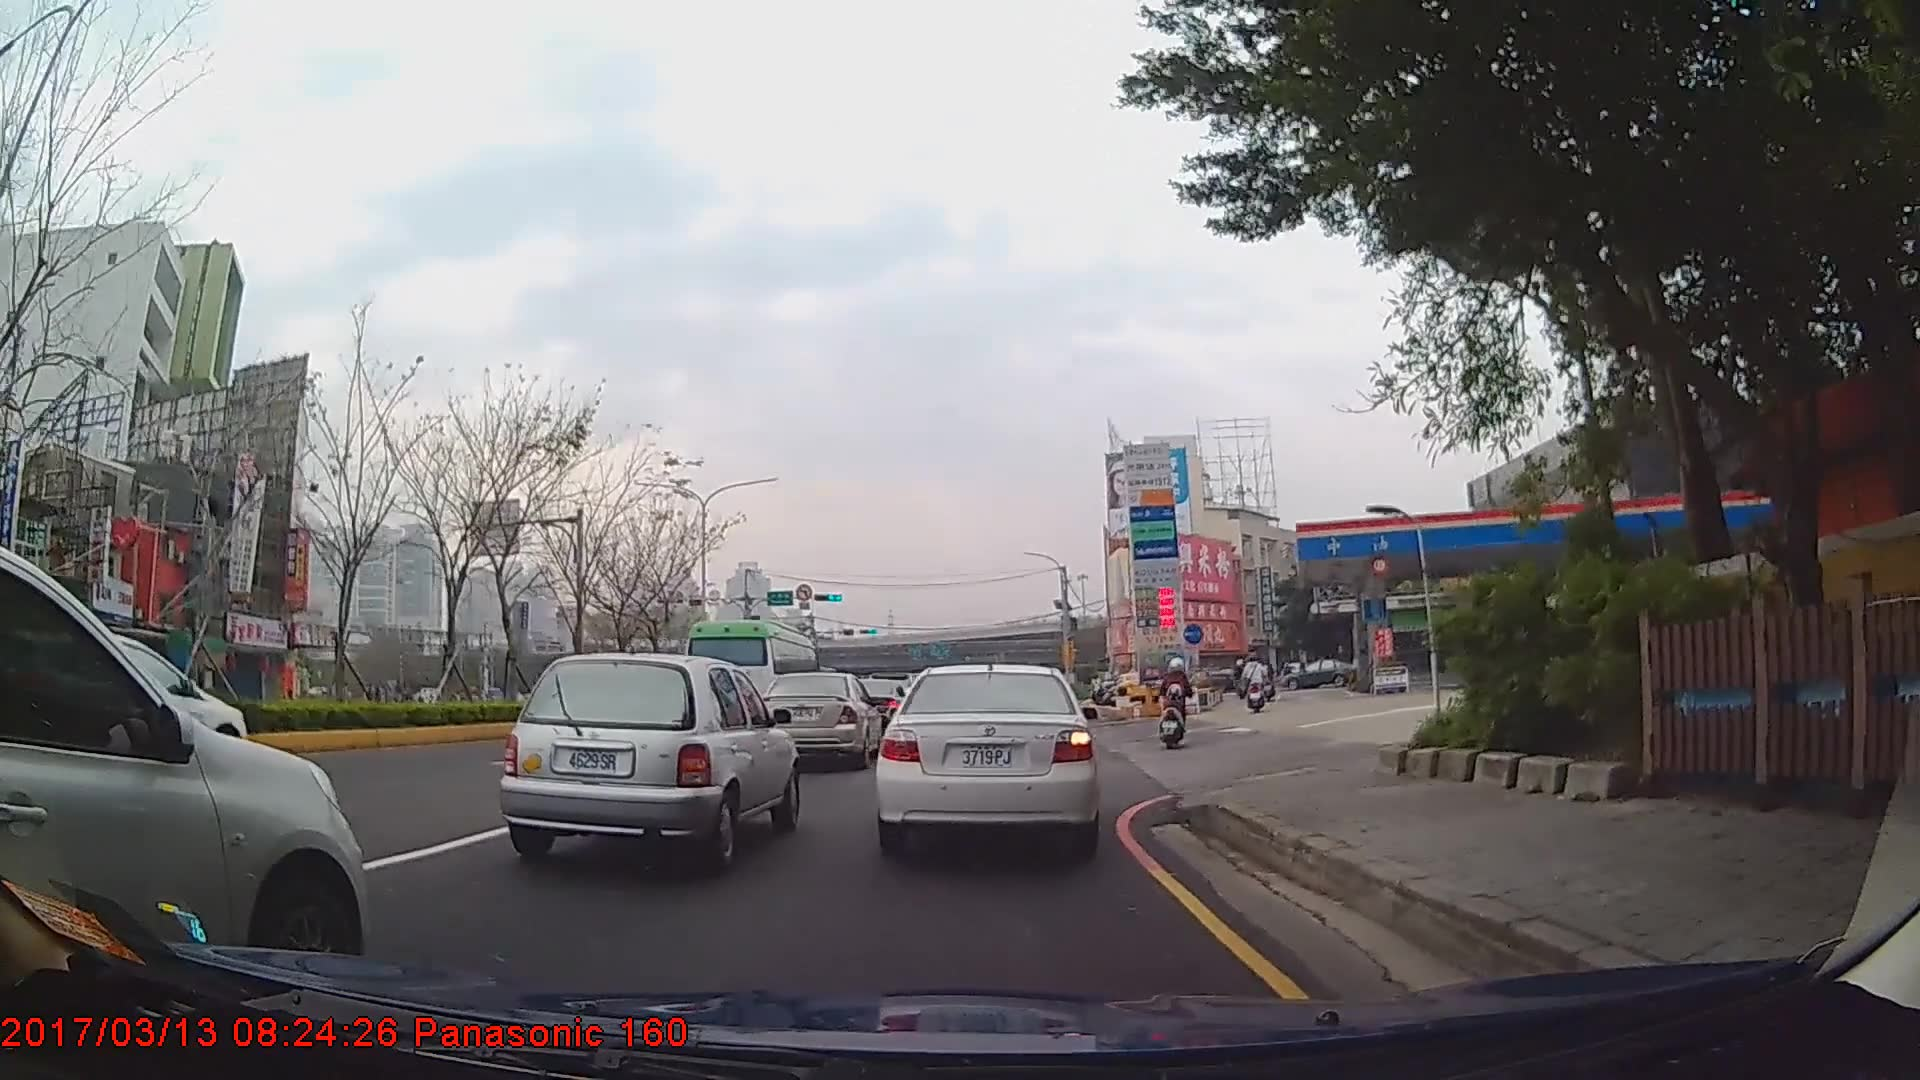rider: (1160, 660, 1194, 756), (1241, 653, 1270, 714)
vehicle: (0, 546, 372, 991), (501, 651, 801, 868), (873, 659, 1099, 859), (680, 616, 820, 727), (753, 671, 881, 767), (1286, 658, 1356, 688)
